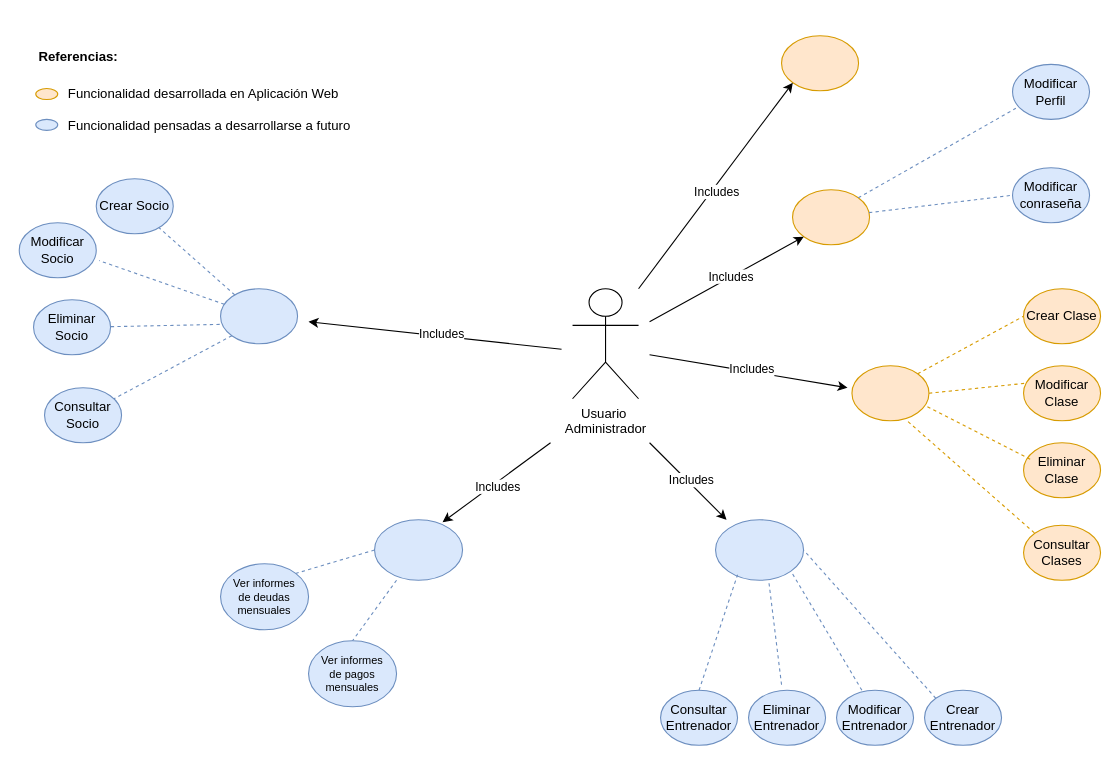
Some shapes in this 1120 by 765 pixel diagram are drawn without their labels. The shapes that lost their labels are listed below. From the top down, each one's box as (x1, y1, x2, y2) in pixels, then its label:
(780, 35, 859, 91): Registrarse
(791, 189, 870, 245): Login Usuario
(219, 288, 298, 344): Gestión de Socios
(851, 365, 929, 421): Gestión de Clases
(373, 519, 463, 580): Gestión Financiera
(714, 519, 804, 580): Gestión de Entrenadores
